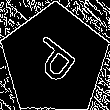P_SE: (25, 31, 84, 90)
